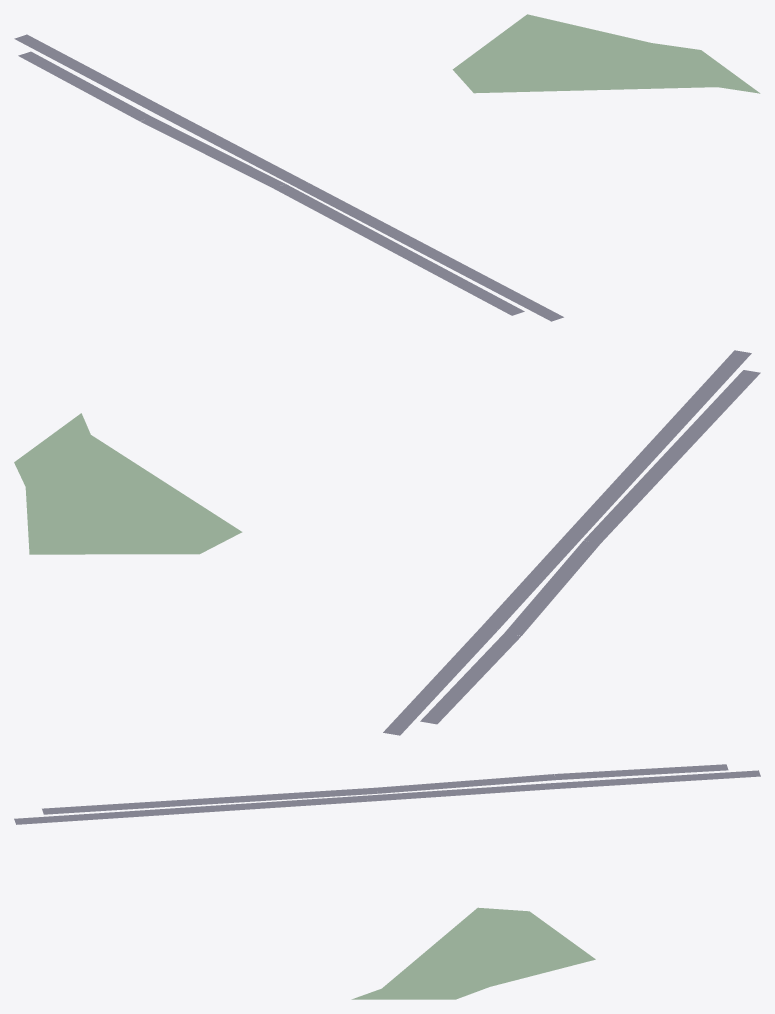
Rendered from 94_110_mid.glb.
3 views of the same model, one above another, from view 1: azimuth 30°, elevation 25°; view 2: azimuth 150°, elevation 25°; view 3: azimuth 270°, elevation 25° (orthographic). The views are drawn at different scales.
Bounding box in the file's own units: 385 × 7.41 × 537.
